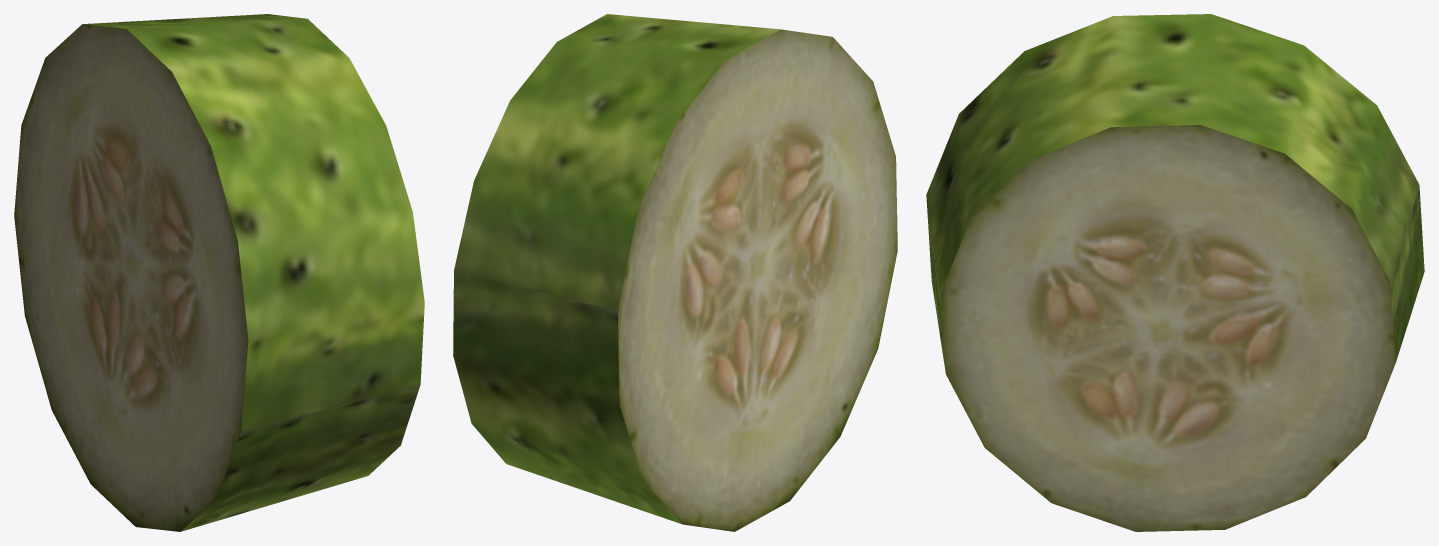
File: cucumber_part_2.fbx
3 views of the same model, side by side, from view 1: azimuth 30°, elevation 25°; view 2: azimuth 150°, elevation 25°; view 3: azimuth 270°, elevation 25° (orthographic). The views are drawn at different scales.
Parts seen in each view (by area): view 1: Cylinder.007; view 2: Cylinder.007; view 3: Cylinder.007.
Part boxes in pixels (left/top/right/bottom): Cylinder.007: left=14, top=14, right=424, bottom=531; Cylinder.007: left=453, top=14, right=897, bottom=531; Cylinder.007: left=926, top=14, right=1424, bottom=531.
Bounding box in the file's own units: 4.89 × 10.18 × 10.19.
